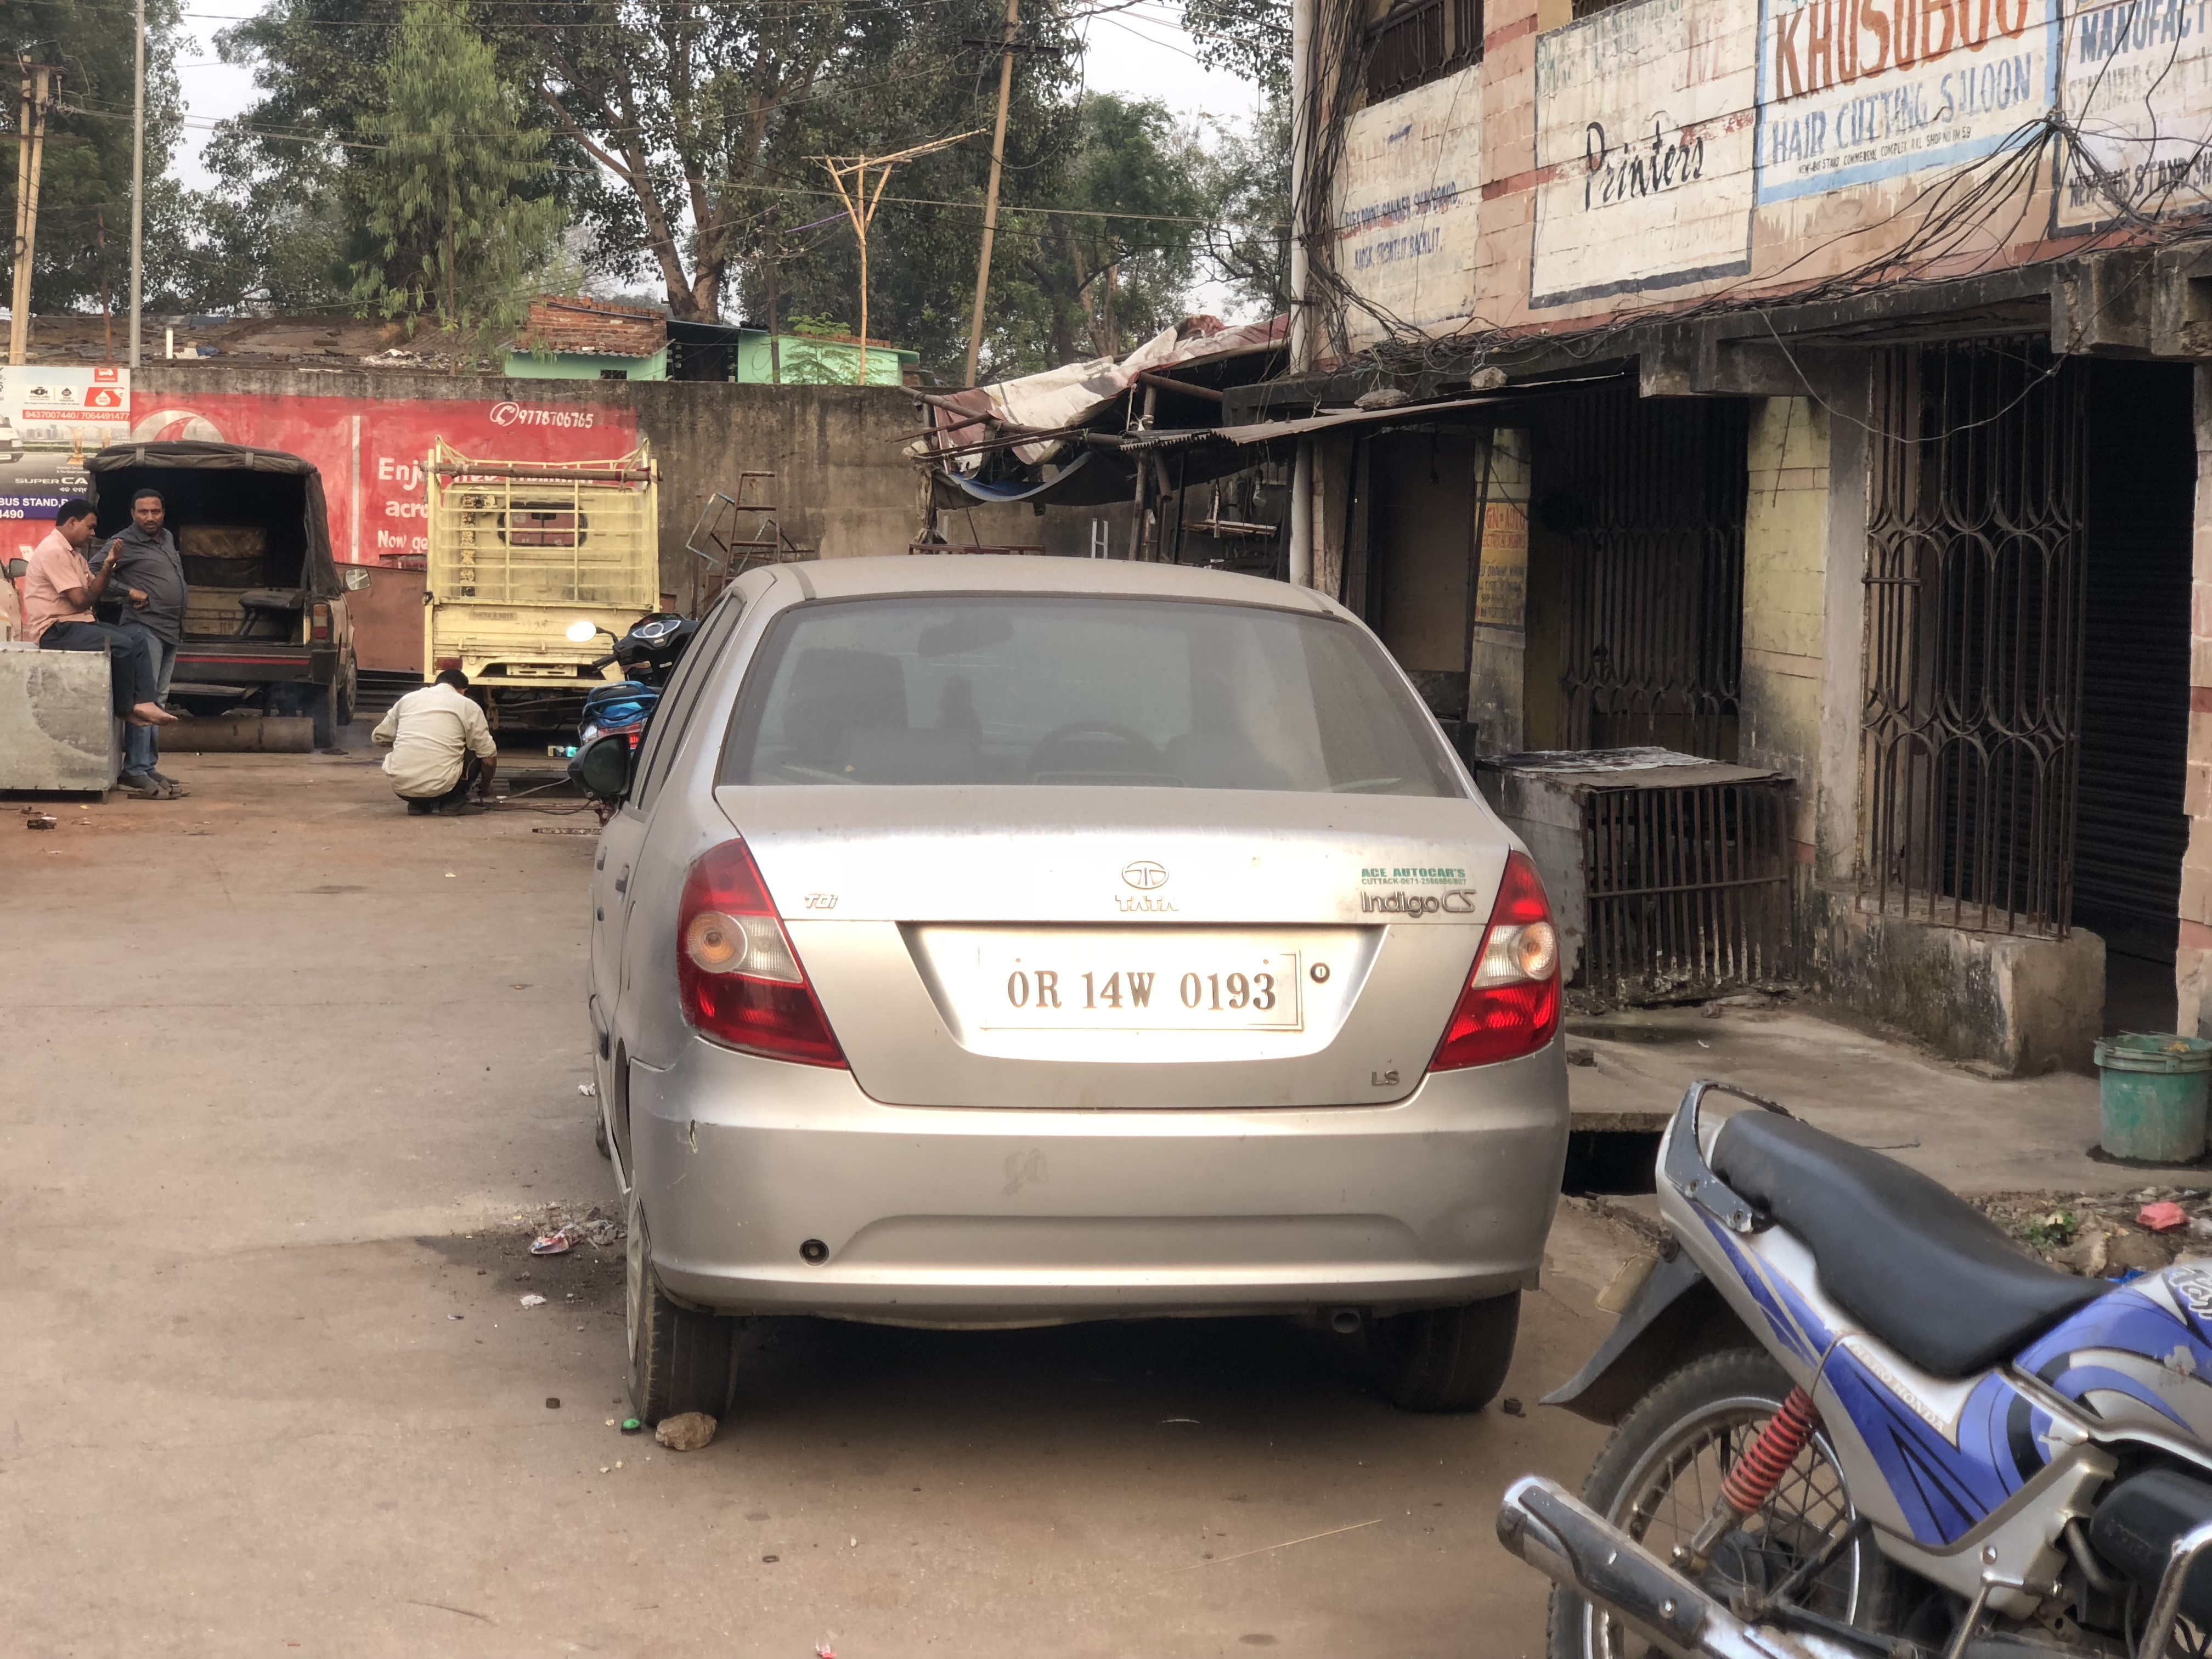licenseplate: (966, 927, 1316, 1042)
